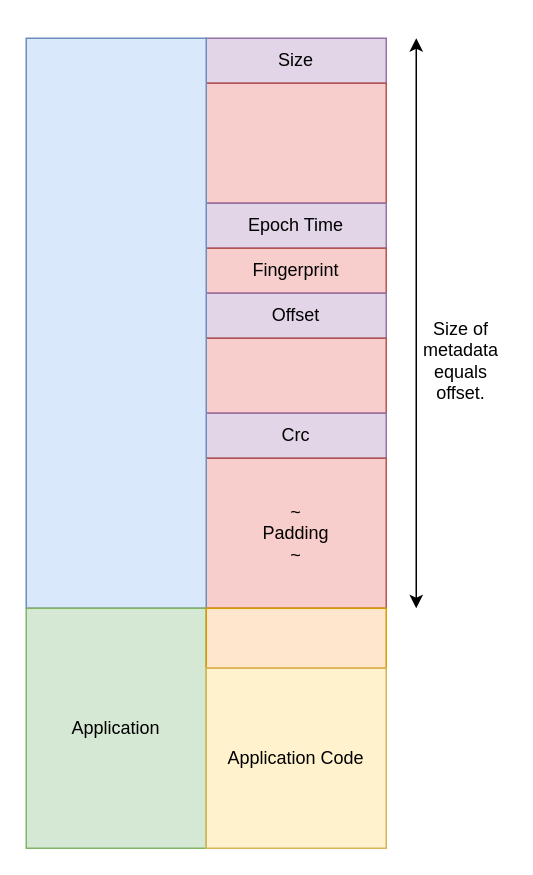
This 533x875 diagram has some shape labels left out. The centre of each missing label's shape, as x and y in pixels:
App Metadata: [115,322]
ISR vector: [295,637]
MD5 Hash: [295,375]
Version - Major - Minor - Patch - Reserved: [295,142]
